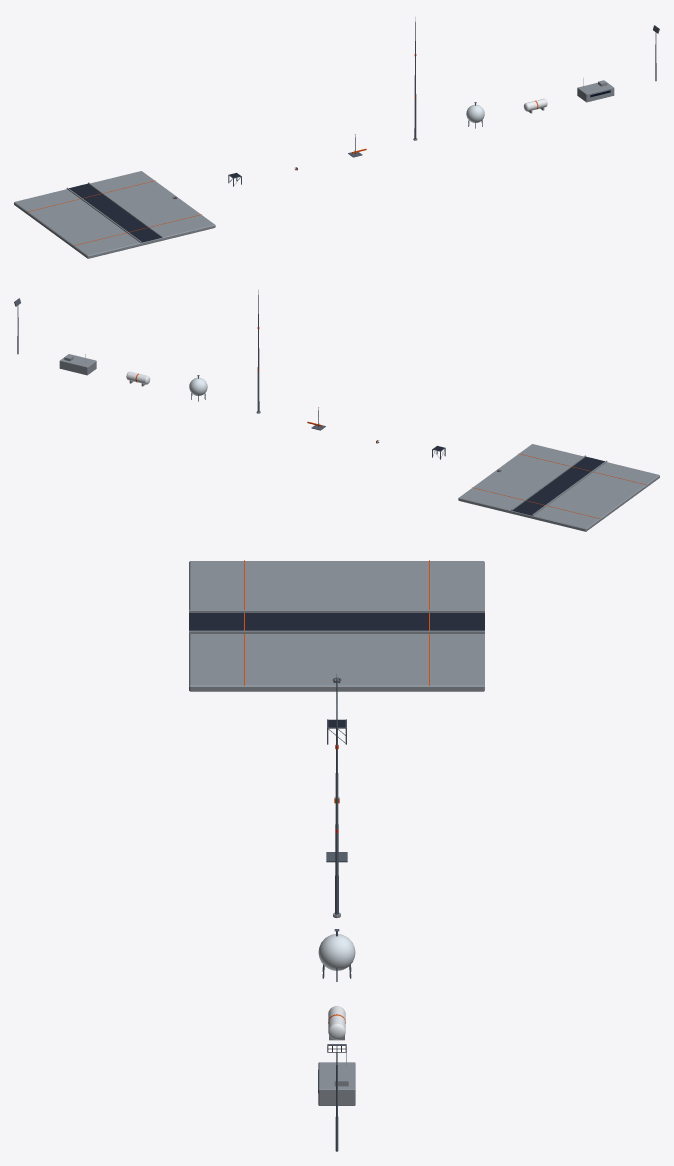
The model's file is pad.glb.
The picture shows the model from 3 angles, top to bottom: view 1: azimuth 30°, elevation 25°; view 2: azimuth 150°, elevation 25°; view 3: azimuth 270°, elevation 25°; orthographic projection. The views are drawn at different scales.
Visible parts, largest first — view 1: pad_base, bunker; view 2: pad_base, bunker; view 3: pad_base, bunker, tank_sphere.
Part boxes in pixels (left/top/right/bottom): pad_base: left=14, top=171, right=215, bottom=258; bunker: left=577, top=78, right=614, bottom=102; pad_base: left=458, top=444, right=659, bottom=531; bunker: left=59, top=354, right=96, bottom=375; pad_base: left=189, top=560, right=484, bottom=691; bunker: left=318, top=1052, right=355, bottom=1105; tank_sphere: left=318, top=929, right=355, bottom=981.
Bounding box in the file's own units: 303 × 61.6 × 64.
